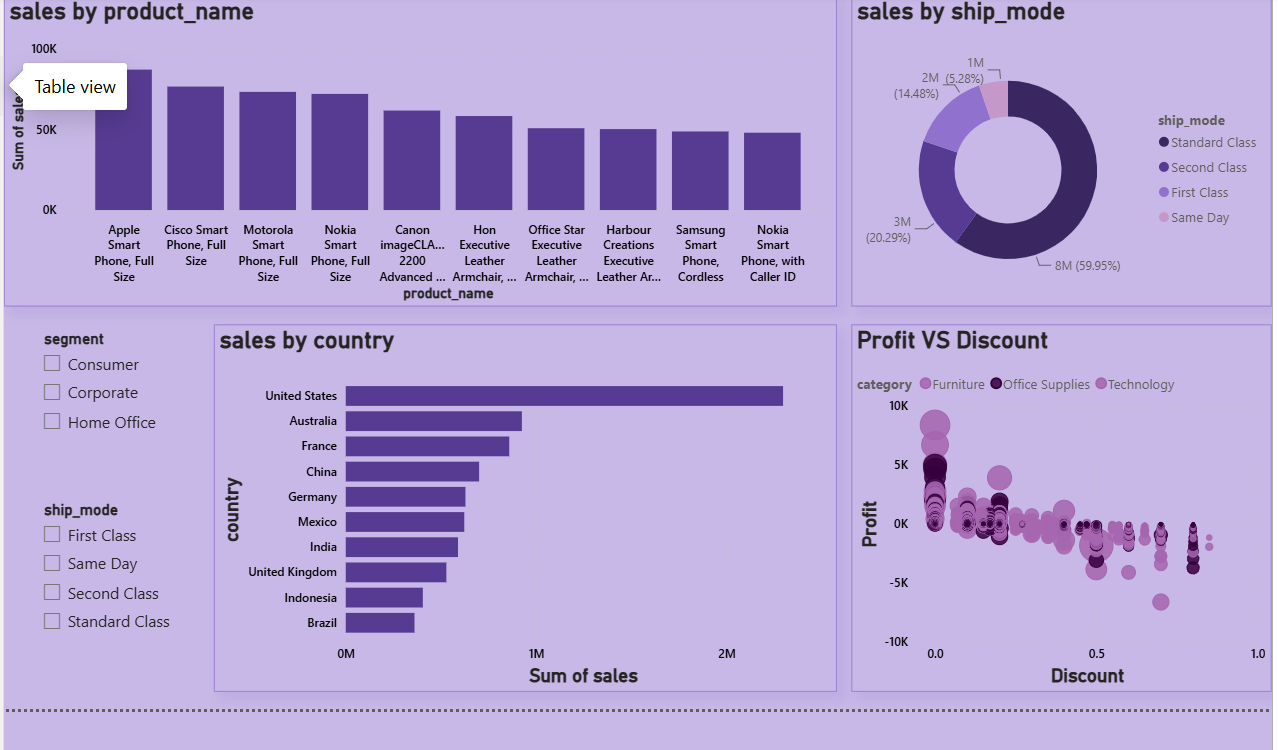

Layout of this report page (visuals, bound fields, positions):
{"tool":"powerbi","page":{"name":"Product_and_shipping ","canvas":[1280,720],"ordinal":1},"visuals":[{"type":"columnChart","title":" Sales by Product Name","fields":{"Category":["Cleaned_Sales_data.product_name"],"Y":["Sum(Cleaned_Sales_data.sales)"]},"box":[0,0,840.4,313.4],"z":0},{"type":"donutChart","title":" Sales by Ship Mode","fields":{"Category":["Cleaned_Sales_data.ship_mode"],"Y":["Sum(Cleaned_Sales_data.sales)"]},"box":[855.5,0,424,313.4],"z":1000},{"type":"scatterChart","title":"Profit VS Discount","fields":{"X":["Cleaned_Sales_data.discount"],"Y":["Cleaned_Sales_data.profit"],"Series":["Cleaned_Sales_data.category"],"Size":["Sum(Cleaned_Sales_data.sales)"]},"box":[192.3,331.6,533,305.9],"z":2000},{"type":"clusteredBarChart","title":"Sales by Country","fields":{"Category":["Cleaned_Sales_data.country"],"Y":["Sum(Cleaned_Sales_data.sales)"]},"box":[737.4,331.6,542.1,375.5],"z":3000},{"type":"slicer","fields":{"Values":["Cleaned_Sales_data.ship_mode"]},"box":[27.3,487.6,185.2,149.3],"z":4000},{"type":"slicer","fields":{"Values":["Cleaned_Sales_data.segment"]},"box":[27.3,331.6,145.4,125.7],"z":5000},{"type":"shape","box":[0,643.5,725.3,75.7],"z":6000}]}

Visuals, with their boxes on the page's 1280x720 design canvas (x1, y1, x2, y2). These are canvas units, not pixel positions in the 1278x750 screenshot, which may show the page scaled, cropped or inside an application window:
" Sales by Product Name" columnChart: (left=0, top=0, right=840, bottom=313)
" Sales by Ship Mode" donutChart: (left=856, top=0, right=1280, bottom=313)
"Profit VS Discount" scatterChart: (left=192, top=332, right=725, bottom=638)
"Sales by Country" clusteredBarChart: (left=737, top=332, right=1280, bottom=707)
slicer - Cleaned_Sales_data.ship_mode: (left=27, top=488, right=212, bottom=637)
slicer - Cleaned_Sales_data.segment: (left=27, top=332, right=173, bottom=457)
shape: (left=0, top=644, right=725, bottom=719)
